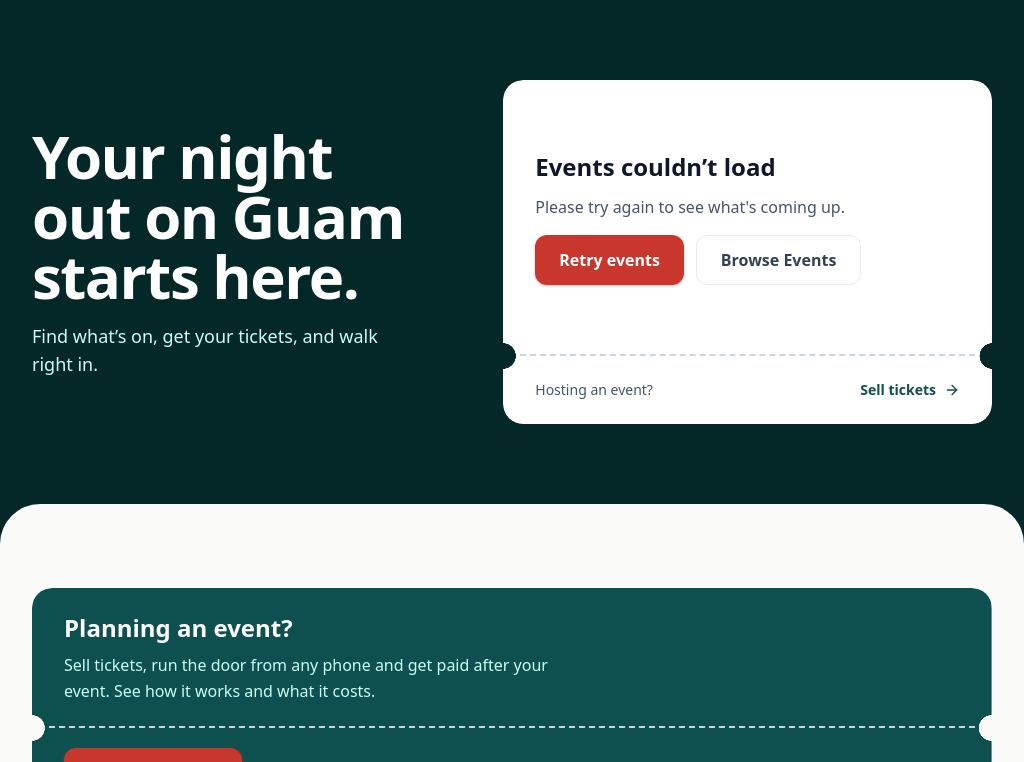
it: the public ticket › recovers an outage without declaring inventory empty
Expected: the message shows "Events couldn’t load", [535, 150, 776, 183]
Step 1. Click the button "Retry events" → [610, 260], box [535, 235, 684, 285]
(page scrolled)
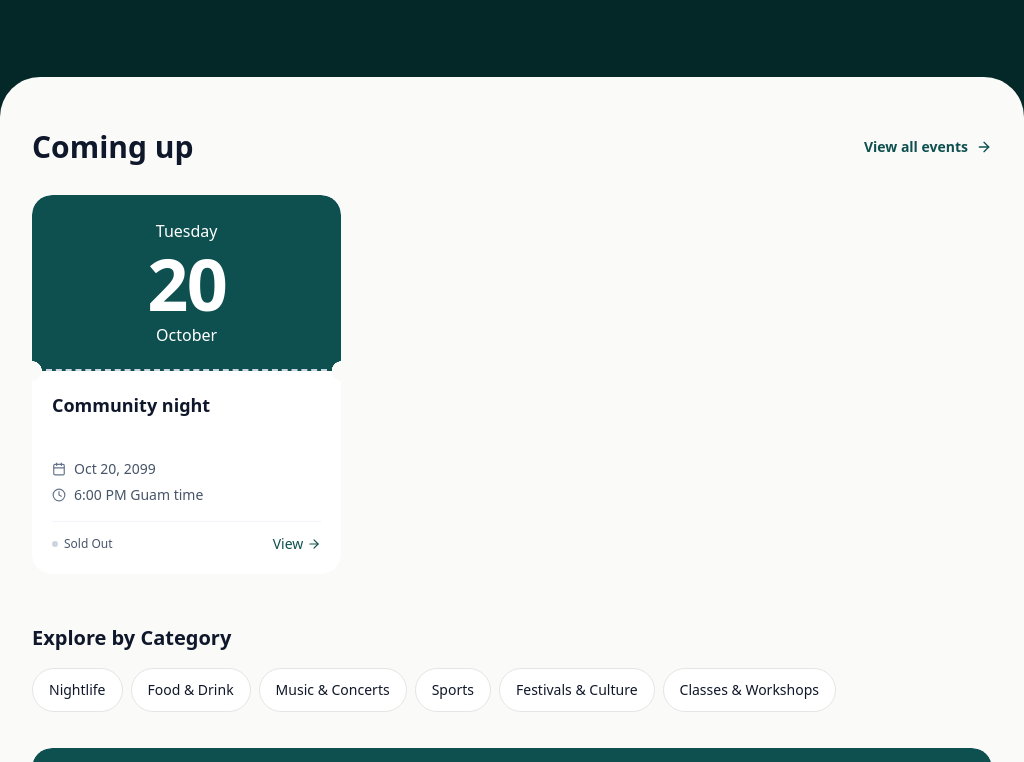
Expected: the message is gone
